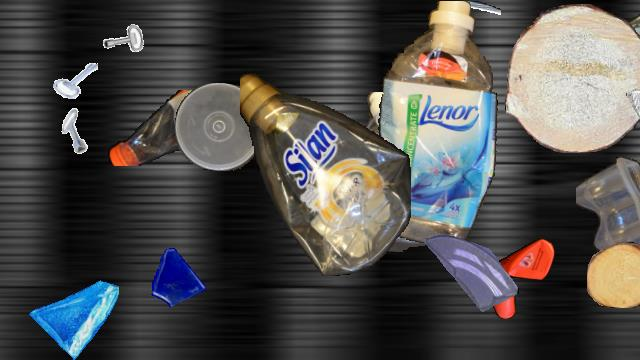glass: (424, 226, 518, 320), (28, 269, 118, 359), (146, 245, 208, 307), (626, 85, 640, 169), (639, 142, 640, 220)
metal: (438, 1, 500, 63), (91, 2, 147, 58), (54, 108, 100, 154), (53, 59, 97, 103)
plastic: (240, 66, 410, 276), (360, 1, 500, 251), (353, 92, 487, 252), (106, 90, 252, 166), (576, 157, 640, 299), (551, 1, 640, 103), (175, 83, 263, 171), (481, 239, 555, 319)
wood: (504, 4, 640, 152), (587, 242, 640, 308)
